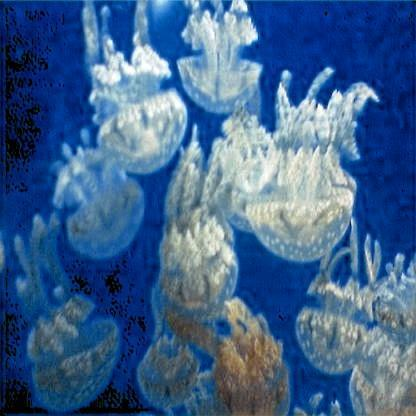LightHouse: (246, 65, 378, 260), (14, 219, 120, 407), (79, 4, 185, 172), (166, 300, 290, 416), (296, 227, 382, 374), (47, 137, 145, 257), (350, 256, 413, 415), (177, 1, 266, 113), (169, 127, 236, 268), (178, 2, 262, 112), (209, 107, 279, 235), (157, 225, 239, 321), (139, 338, 198, 408)
